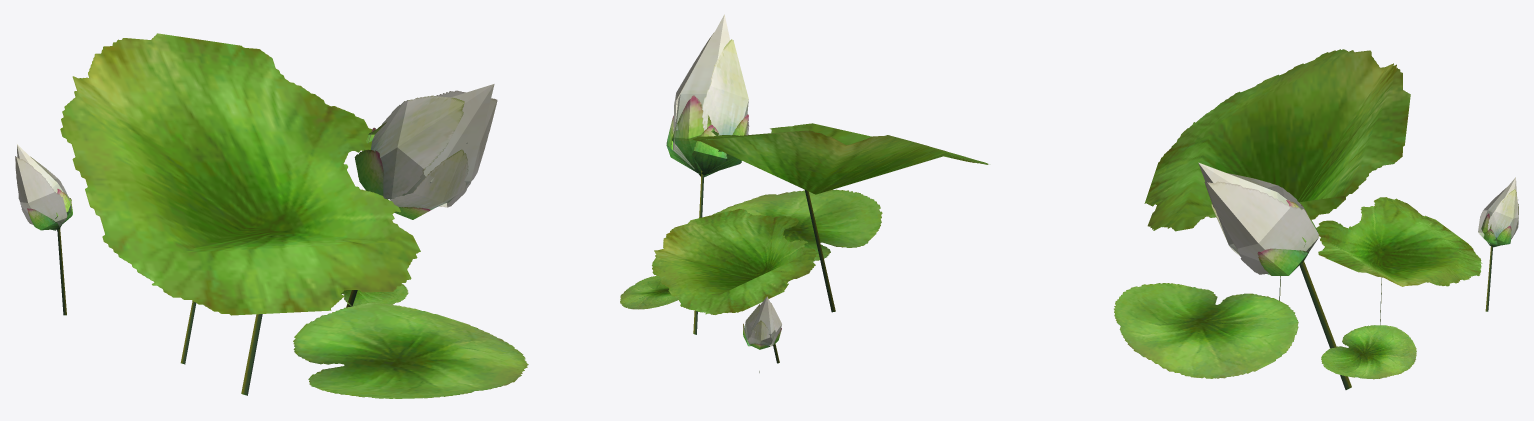
Rendered from yzc_hehua04.FBX.
The picture shows the model from 3 angles, left to right: view 1: azimuth 30°, elevation 25°; view 2: azimuth 150°, elevation 25°; view 3: azimuth 270°, elevation 25°; orthographic projection. The views are drawn at different scales.
Parts seen in each view (by area): view 1: yzc_hehua04; view 2: yzc_hehua04; view 3: yzc_hehua04.
Part boxes in pixels (x1,y1,x2,y2): yzc_hehua04: (15,33,528,398); yzc_hehua04: (620,14,988,372); yzc_hehua04: (1114,49,1518,389).
Bounding box in the file's own units: 55.09 × 41.8 × 60.96.
